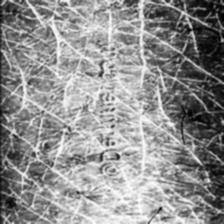Non-Cancerous Skin Condition: (125, 0, 224, 224), (0, 0, 94, 224)
